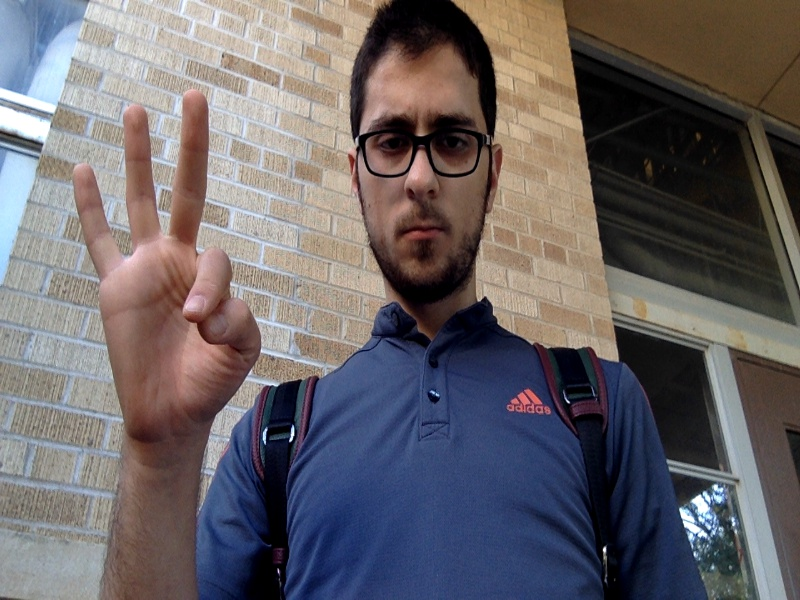3-hand: (73, 93, 260, 444)
